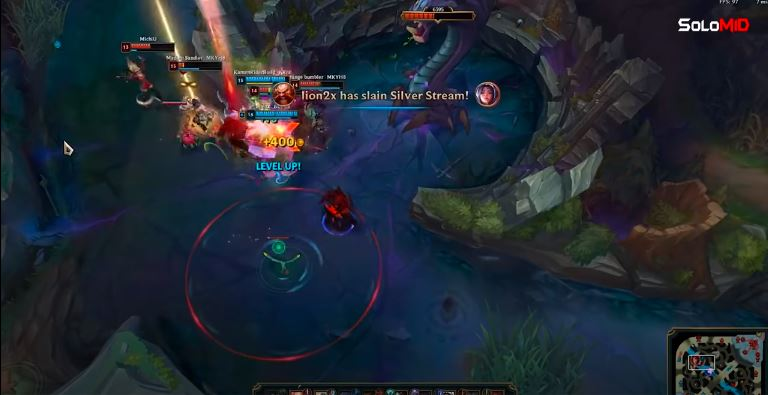bar: (284, 76, 346, 91), (246, 83, 312, 97), (165, 58, 225, 73), (235, 72, 293, 87), (244, 106, 302, 120), (118, 39, 178, 52)
